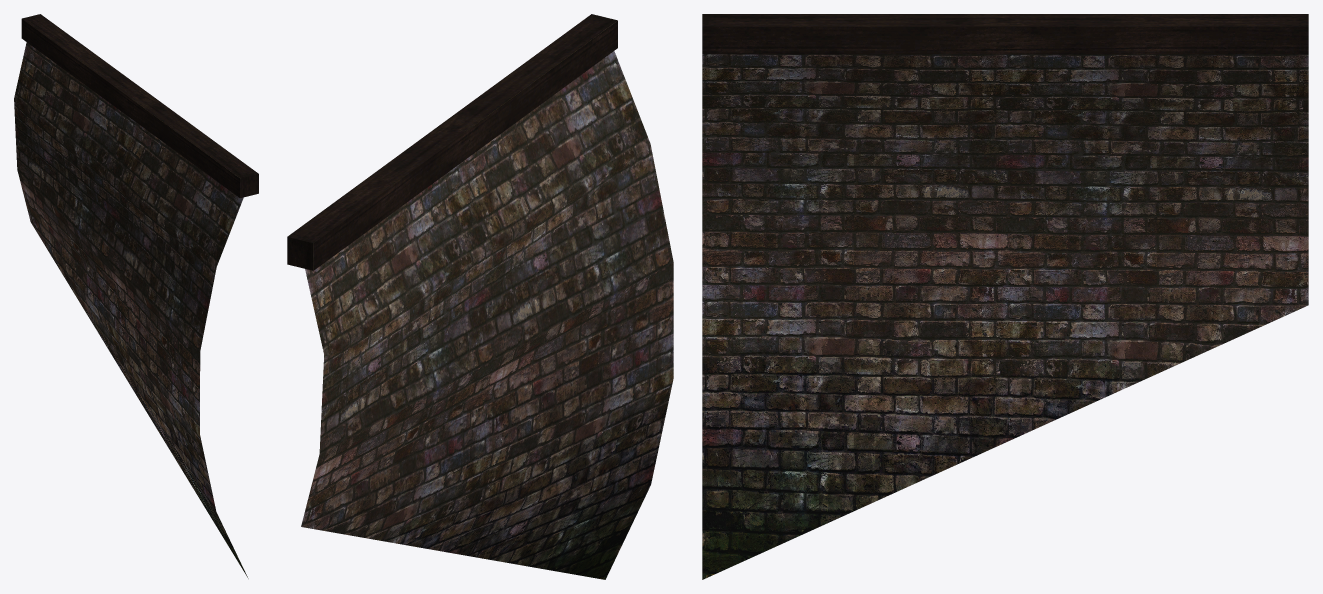
The model's file is wall_slope02.DAE.
The picture shows the model from 3 angles, left to right: view 1: azimuth 30°, elevation 25°; view 2: azimuth 150°, elevation 25°; view 3: azimuth 270°, elevation 25°; orthographic projection. The views are drawn at different scales.
Parts seen in each view (by area): view 1: wall_slope02, wall_detail03; view 2: wall_slope02, wall_detail03; view 3: wall_slope02, wall_detail03.
Boxes of the visible parts, x1=… form: wall_slope02: x1=14, y1=42, x2=248, y2=578; wall_detail03: x1=21, y1=14, x2=258, y2=198; wall_slope02: x1=301, y1=51, x2=673, y2=579; wall_detail03: x1=287, y1=14, x2=617, y2=270; wall_slope02: x1=702, y1=54, x2=1308, y2=579; wall_detail03: x1=702, y1=14, x2=1308, y2=54.
Bounding box in the file's own units: 0.6226 × 4.08 × 4.
